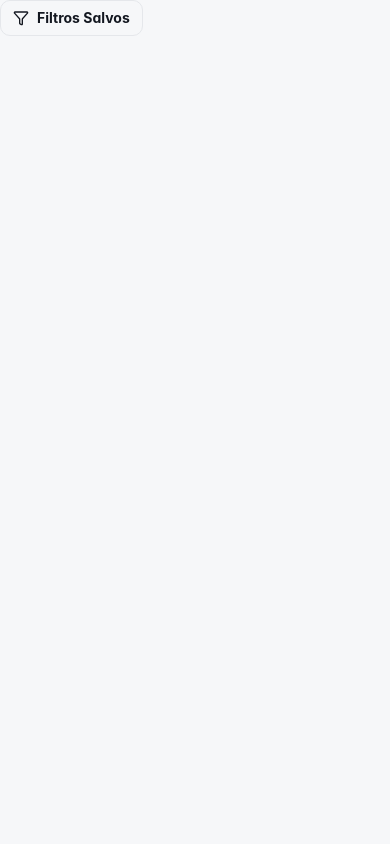
SavedFiltersDropdown › não salva filtro sem nome
Later steps or results of the test are not shown.
Step 1. Click the button "Filtros Salvos" → (71, 18), box [0,0,143,36]
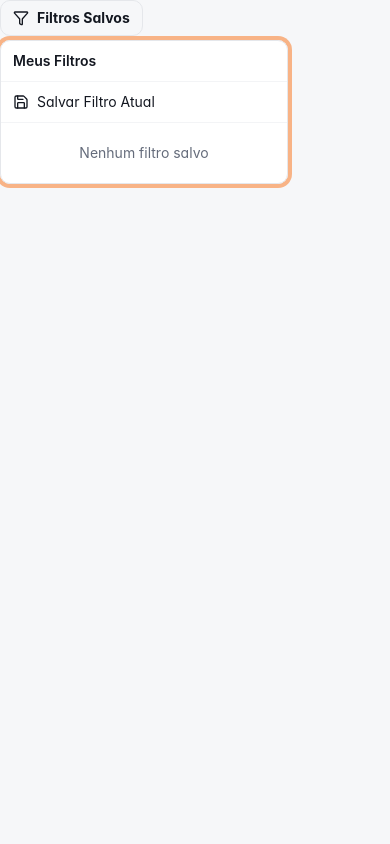
Step 2. Click the menu item "Salvar Filtro Atual" → (84, 102), box [13,93,155,110]
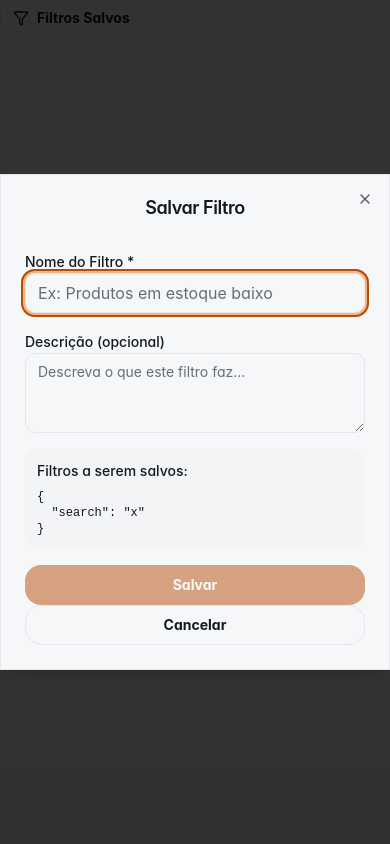
expect the button "Salvar" is disabled: met, box [25,565,365,605]
